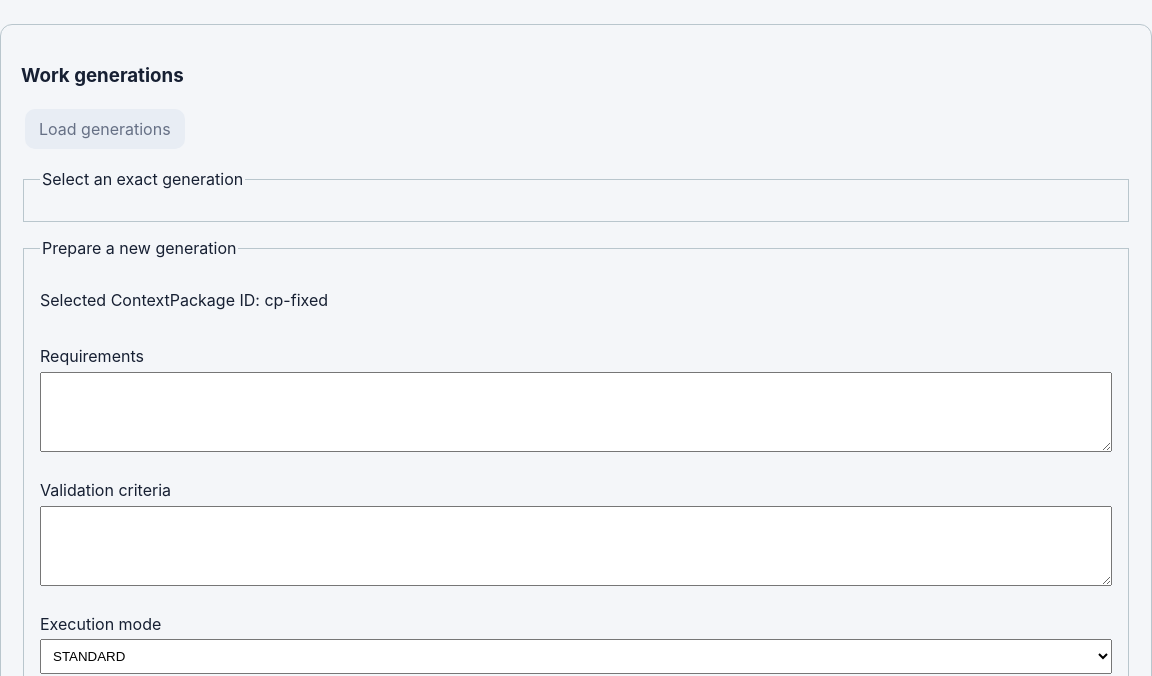
reconnects with the durable cursor and retains exact terminal selection on unchanged
Click the button "Load generations".
click(105, 129)  # box [25,109,185,149]
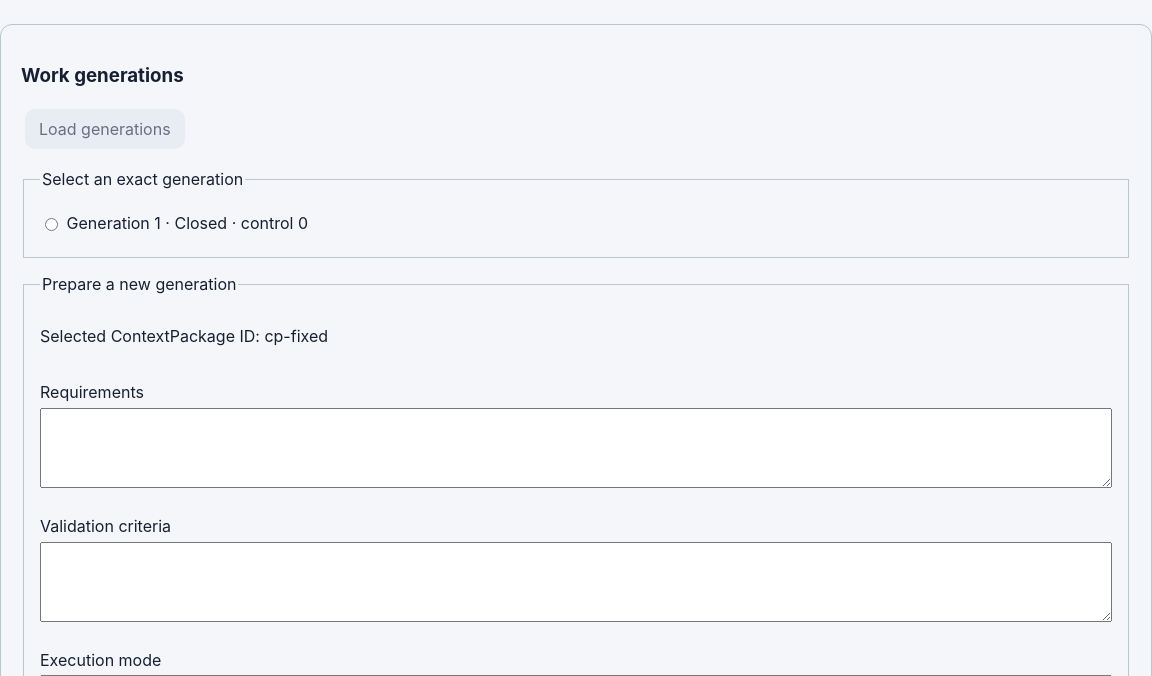
Click the radio button named "generation".
click(52, 225)  # box [45,218,58,231]
(page scrolled)
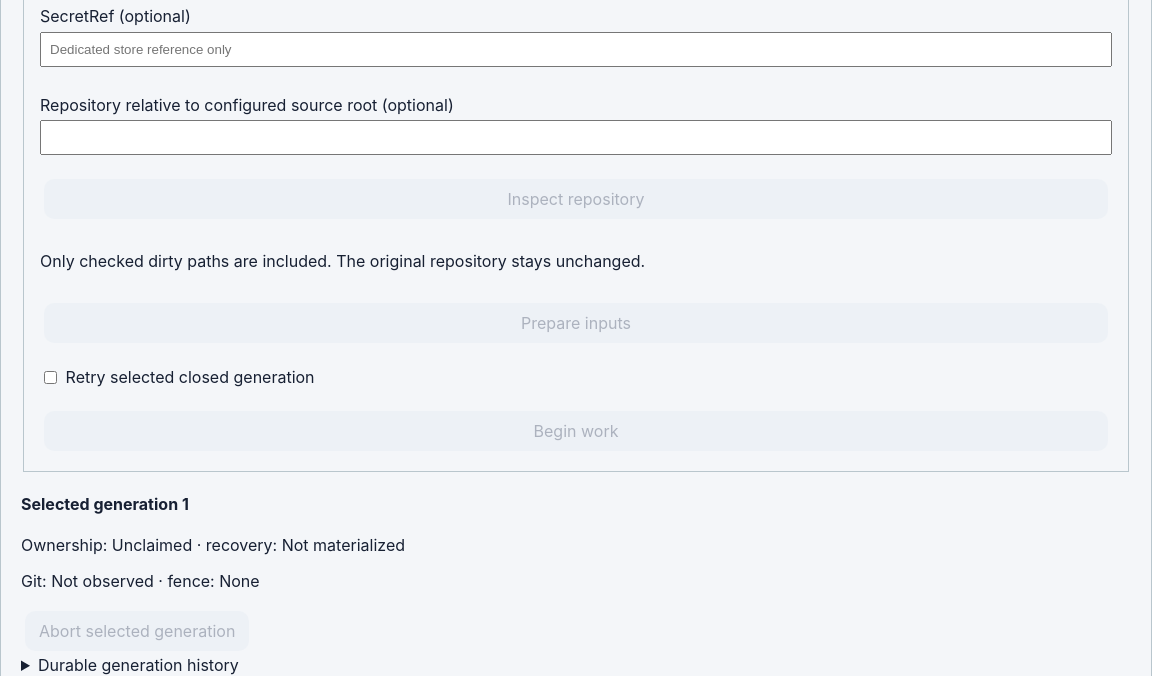
Now the button "Abort selected generation" is disabled, box [25,611,249,651]
